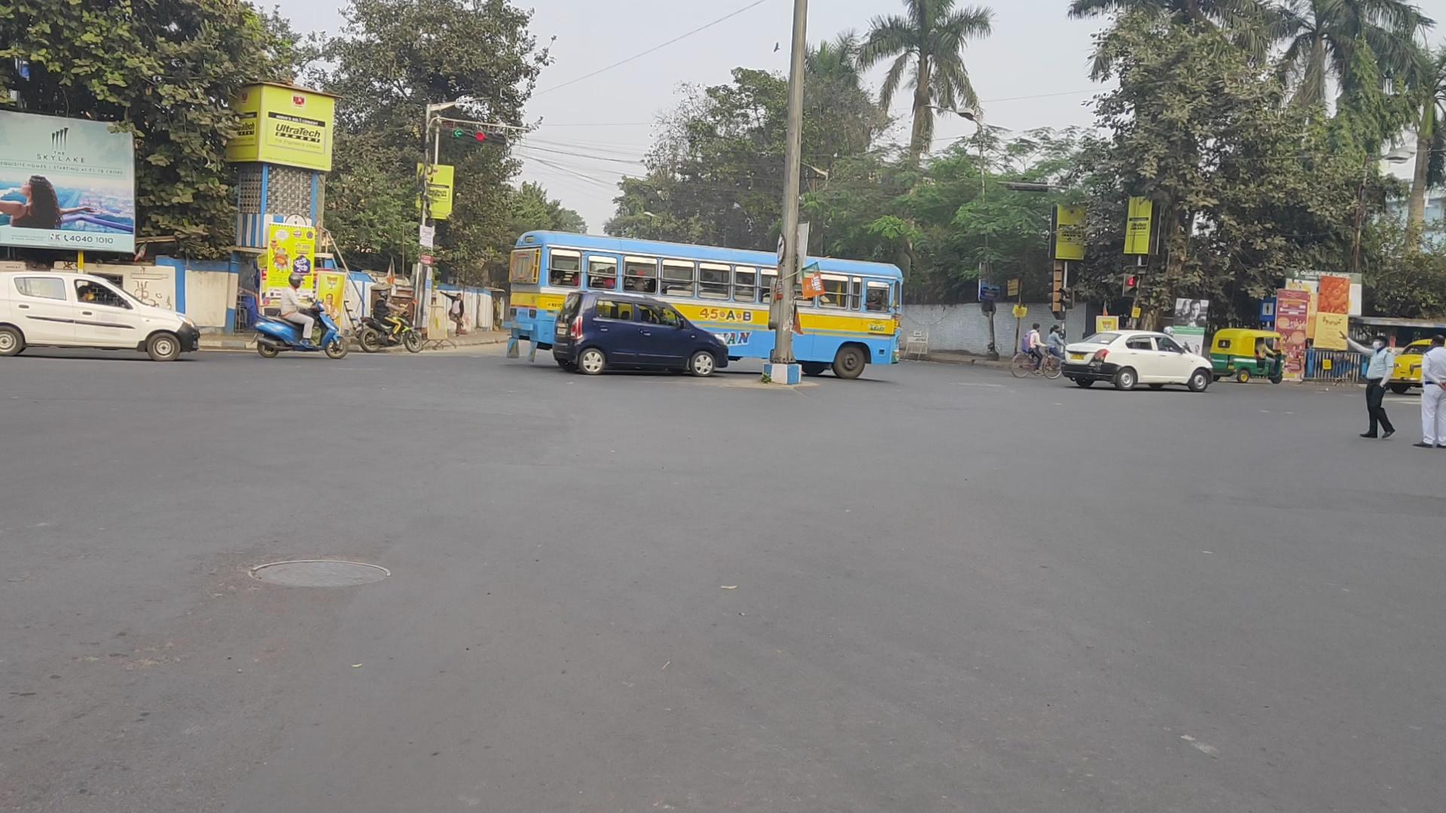Auto: (1209, 327, 1286, 385), (1413, 333, 1446, 449)
Bus: (502, 230, 905, 379)
bike: (250, 272, 348, 360), (358, 291, 423, 353), (1011, 323, 1059, 379), (1031, 324, 1074, 376)
car: (1, 270, 200, 362), (552, 290, 730, 377), (1063, 330, 1214, 392), (1378, 337, 1446, 396)
